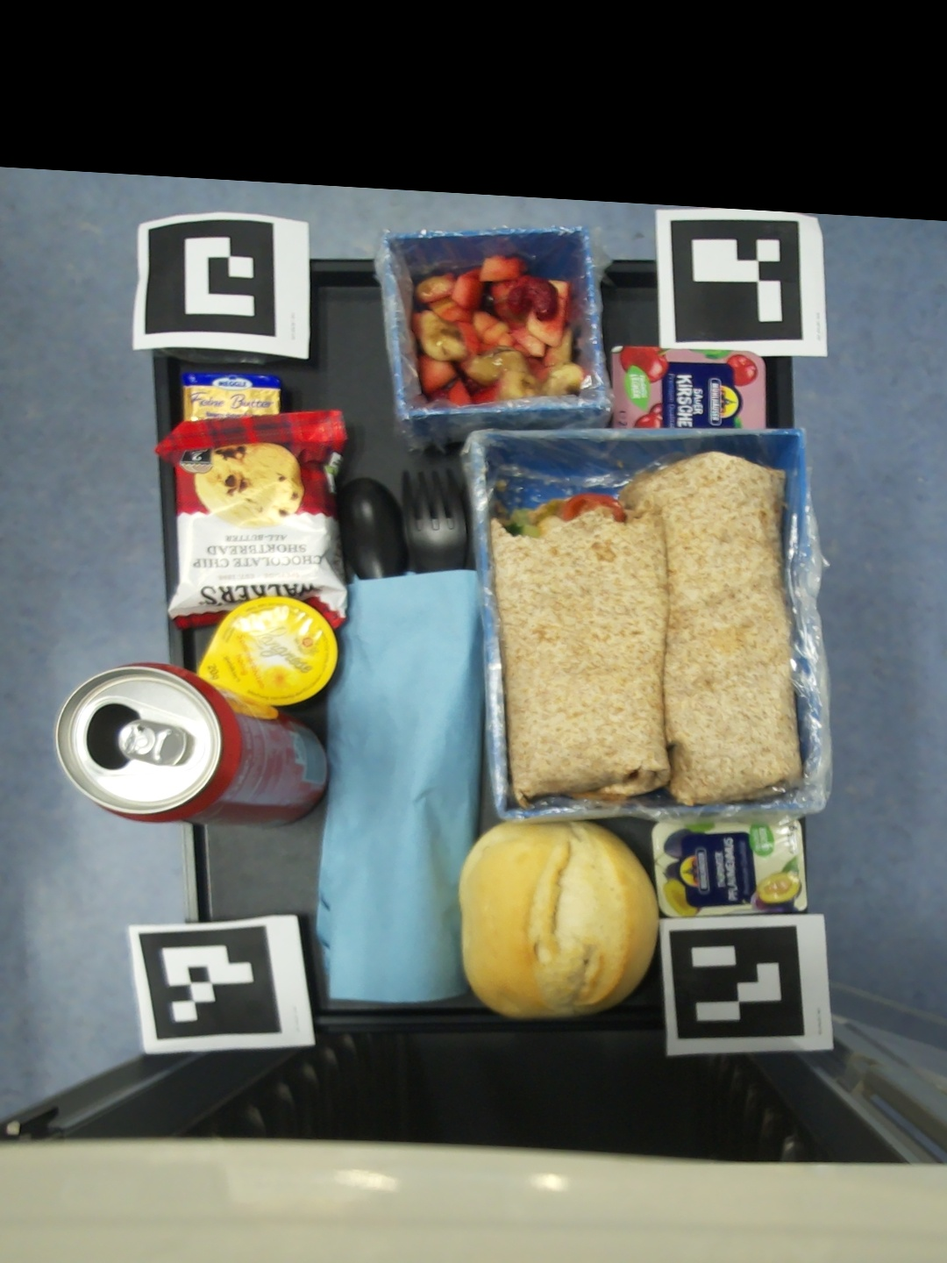bread_roll: (458, 821, 658, 1019)
butter: (181, 373, 281, 422)
cherry_jam: (611, 346, 766, 428)
cola_can: (57, 662, 327, 826)
cookie: (155, 410, 349, 632)
fruit_salad: (411, 253, 585, 405)
honey: (196, 597, 337, 706)
plum_jam: (651, 821, 808, 918)
wrap_half_1: (489, 494, 666, 809), (496, 481, 505, 492)
wrap_half_2: (618, 452, 800, 806)
